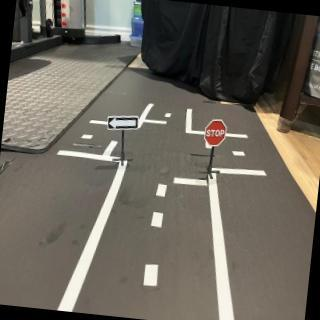sign_oneway_left: (106, 111, 142, 137)
sign_stop: (204, 119, 228, 148)
